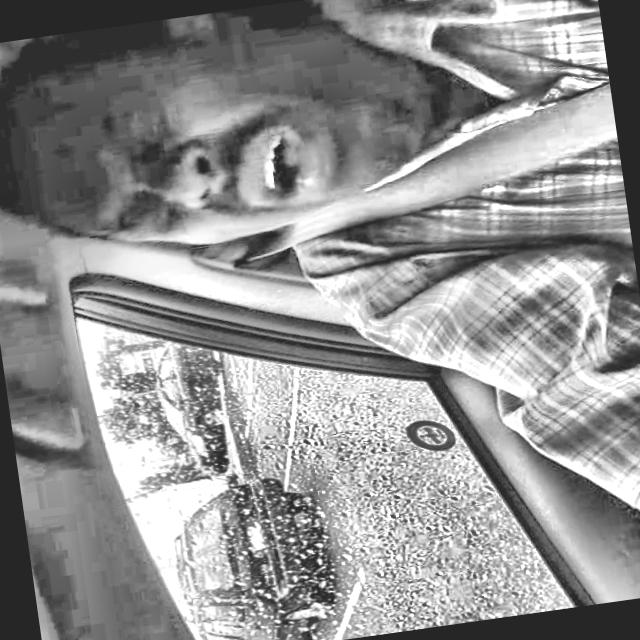open_mouth: (224, 102, 352, 228)
